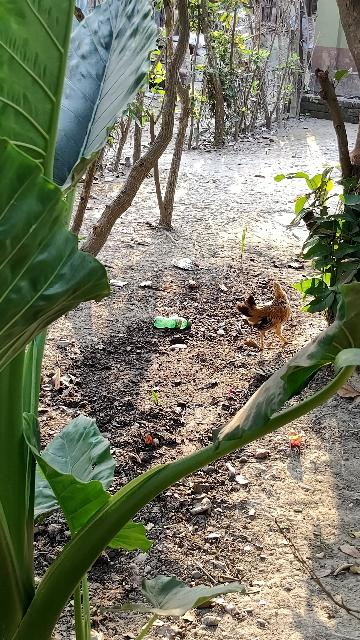bottle: (149, 306, 204, 336)
